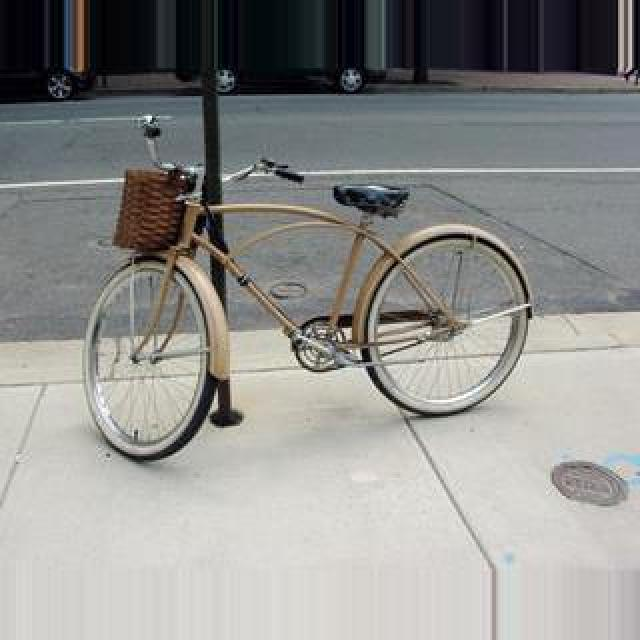Person: (73, 125, 545, 443)
